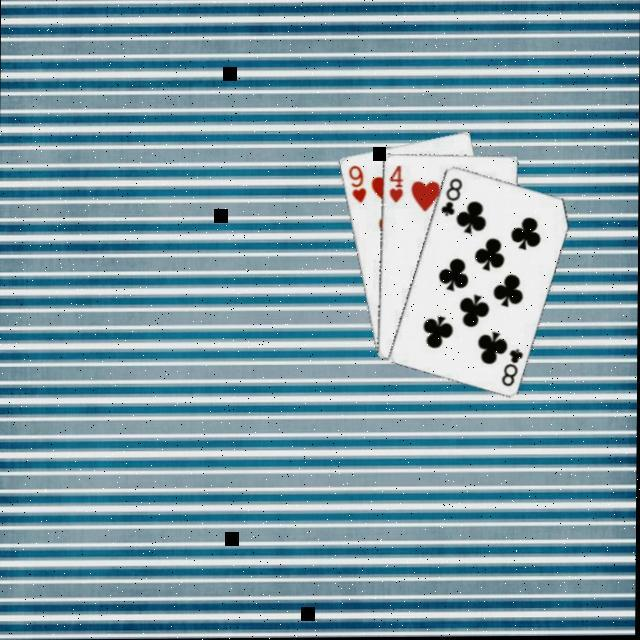4H: (384, 165, 404, 207)
8C: (436, 177, 464, 221), (497, 348, 524, 392)
9H: (343, 164, 367, 208)
